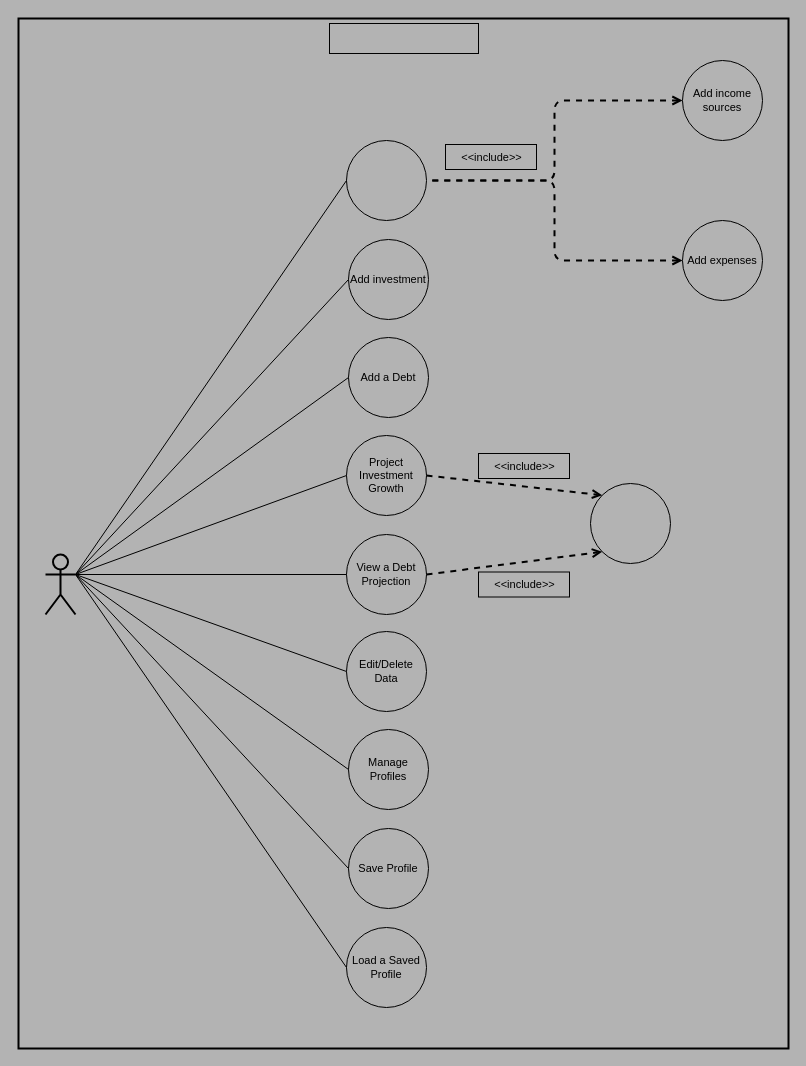
This 806x1066 diagram has some shape labels left out. Here are the shapes that lost their labels. From the top down, the centre of each, then its label:
At (403,38): "Trajectory System".
At (386,180): "Create a Budget".
At (630,523): "View projection graph".
At (60,584): "Finance User".
